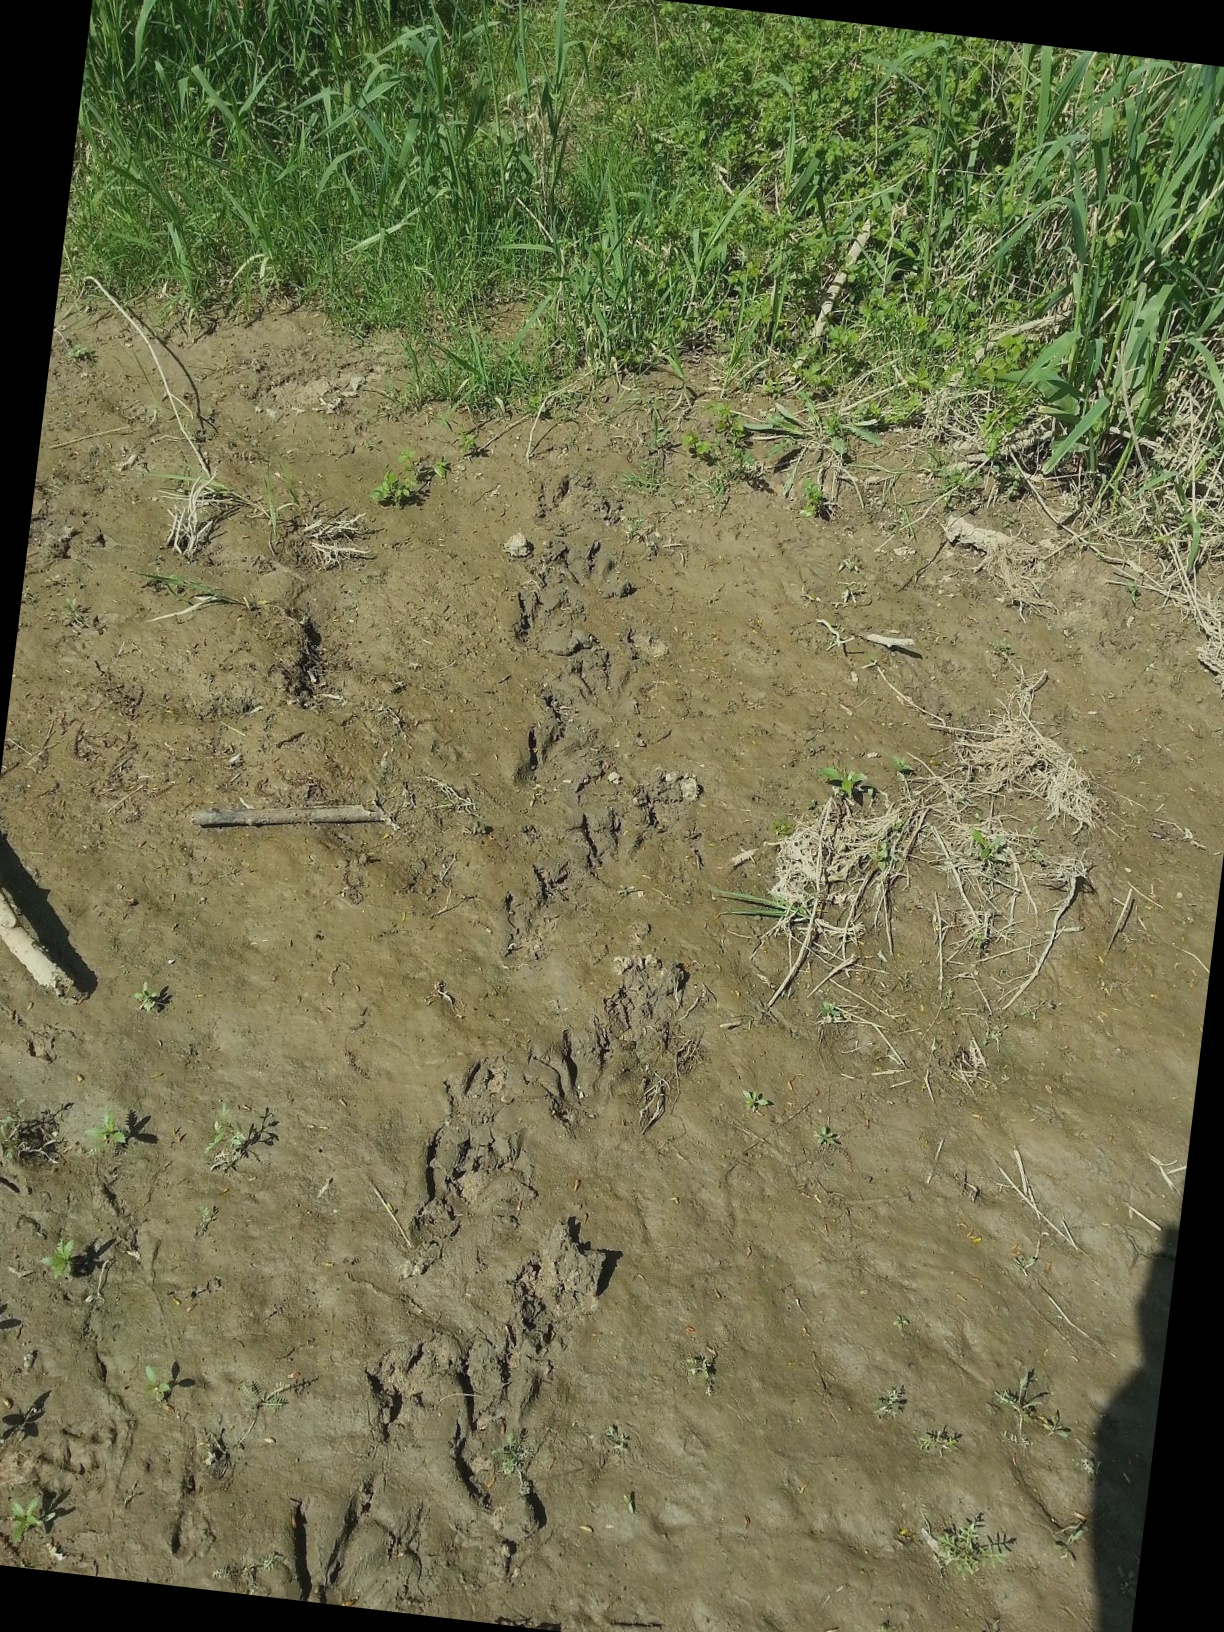beaver: (370, 1213, 640, 1548)
